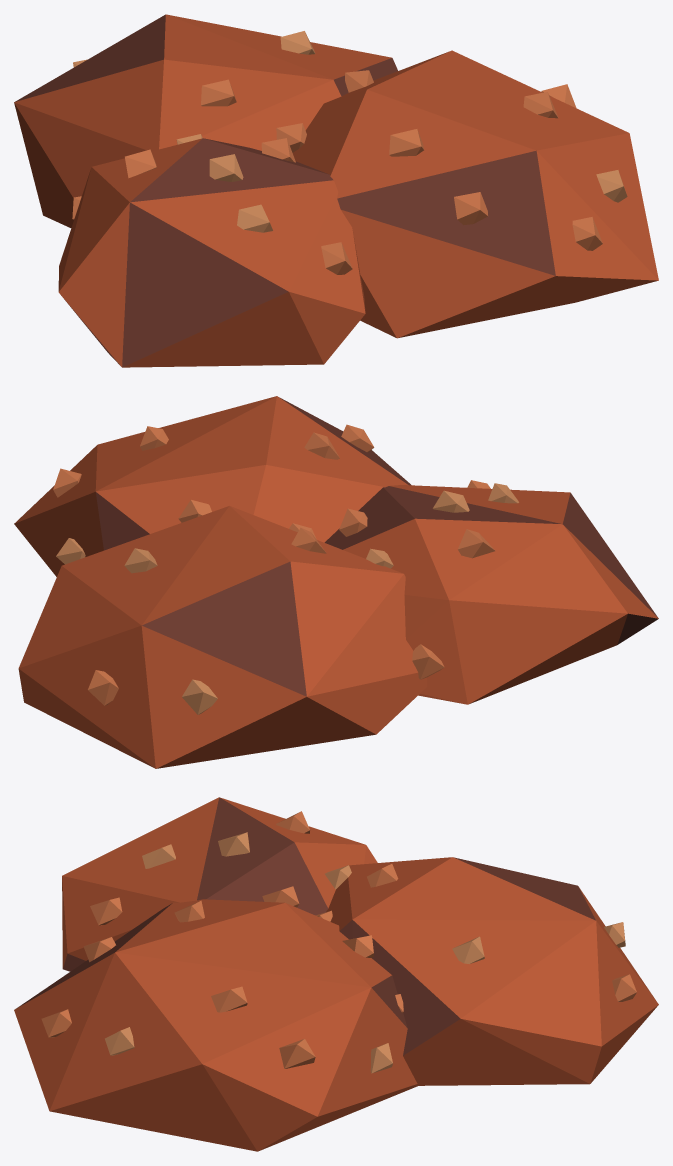
Rendered from minerai_bauxite_2.glb.
3 views of the same model, one above another, from view 1: azimuth 30°, elevation 25°; view 2: azimuth 150°, elevation 25°; view 3: azimuth 270°, elevation 25° (orthographic). The views are drawn at different scales.
Visible parts, largest first — view 1: minerai_bauxite.004, minerai_brique_sombre.004, minerai_bauxite_clair.004, minerai_gres_clair.004; view 2: minerai_bauxite.004, minerai_brique_sombre.004, minerai_bauxite_clair.004, minerai_gres_clair.004; view 3: minerai_bauxite.004, minerai_brique_sombre.004, minerai_bauxite_clair.004, minerai_gres_clair.004.
Boxes of the visible parts, x1,y1,x2,y2 form: minerai_bauxite.004: (14, 14, 658, 367); minerai_brique_sombre.004: (15, 14, 555, 367); minerai_bauxite_clair.004: (72, 70, 602, 274); minerai_gres_clair.004: (73, 31, 627, 232); minerai_bauxite.004: (14, 396, 658, 768); minerai_brique_sombre.004: (96, 397, 658, 696); minerai_bauxite_clair.004: (53, 424, 495, 705); minerai_gres_clair.004: (56, 483, 518, 714); minerai_bauxite.004: (14, 797, 658, 1151); minerai_brique_sombre.004: (16, 797, 595, 1055); minerai_bauxite_clair.004: (41, 811, 636, 1068); minerai_gres_clair.004: (105, 832, 625, 1073).
Bounding box in the file's own units: 0.5395 × 0.1314 × 0.5463.
